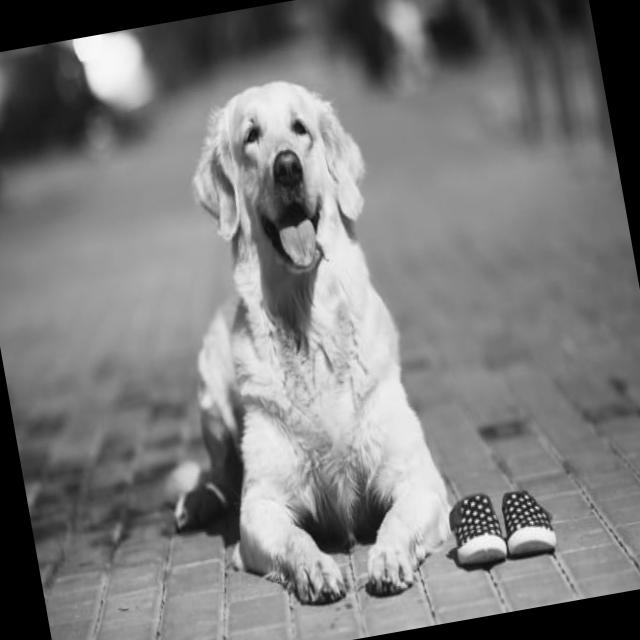laying down: (99, 57, 468, 634)
